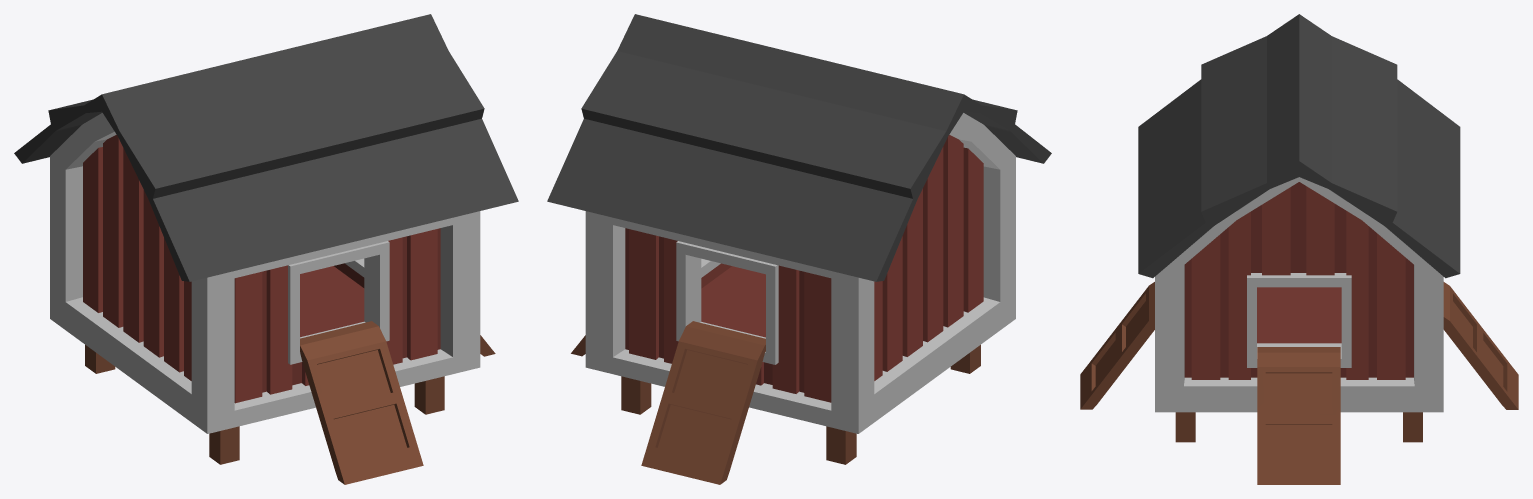
The model's file is ChickenCoop.fbx.
The picture shows the model from 3 angles, left to right: view 1: azimuth 30°, elevation 25°; view 2: azimuth 150°, elevation 25°; view 3: azimuth 270°, elevation 25°; orthographic projection. The views are drawn at different scales.
Visible parts, largest first — view 1: ChickenCoop; view 2: ChickenCoop; view 3: ChickenCoop.
Part boxes in pixels (box(x1,y1,x2,y2)): ChickenCoop: box(14, 14, 518, 484); ChickenCoop: box(547, 14, 1051, 484); ChickenCoop: box(1080, 14, 1518, 484).
Size of the model in its own units: 302 by 260 by 338.
